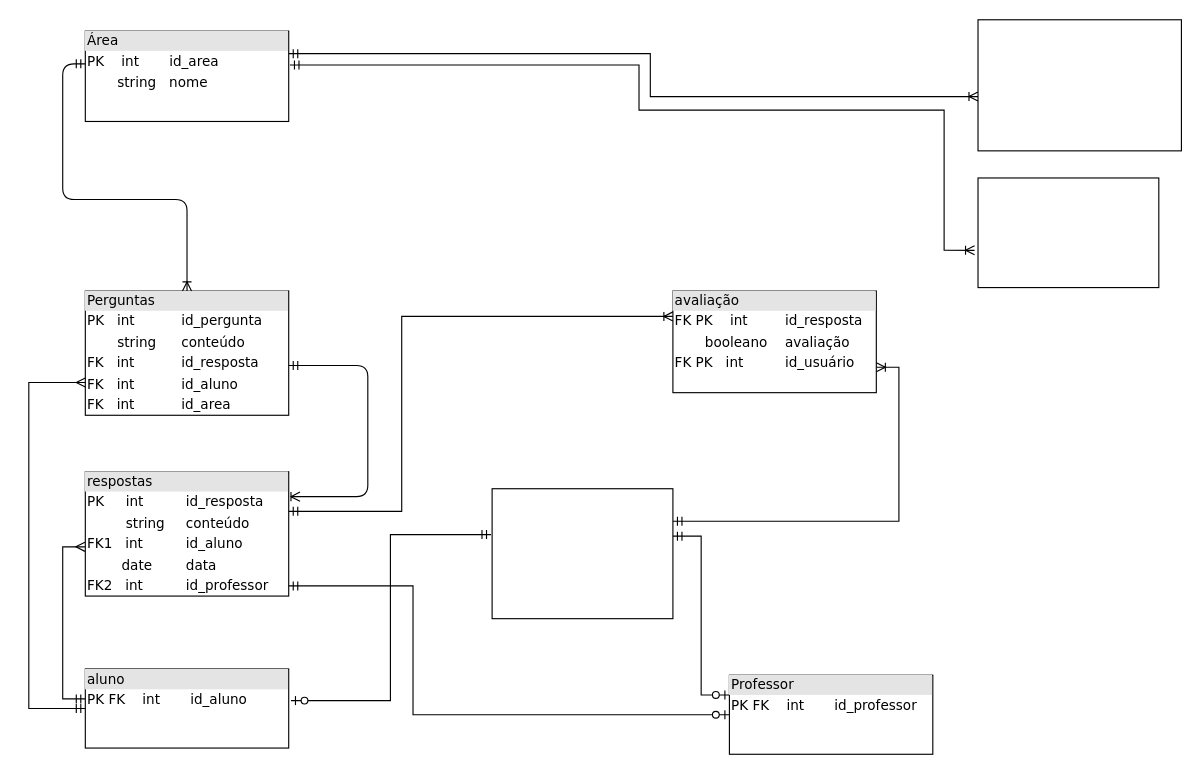
Some shapes in this 1201 by 774 pixel diagram are drawn without their labels. The centre of each missing label's shape, as x and y in pixels:
"Arquivo PK int id_arquivo string conteúdo FK int id_area" belongs at [1079,85].
"Link PK int id_link string endereço FK int área" belongs at [1068,232].
"Usuário PK INT id_usuario var nome string senha" belongs at [582,553].
